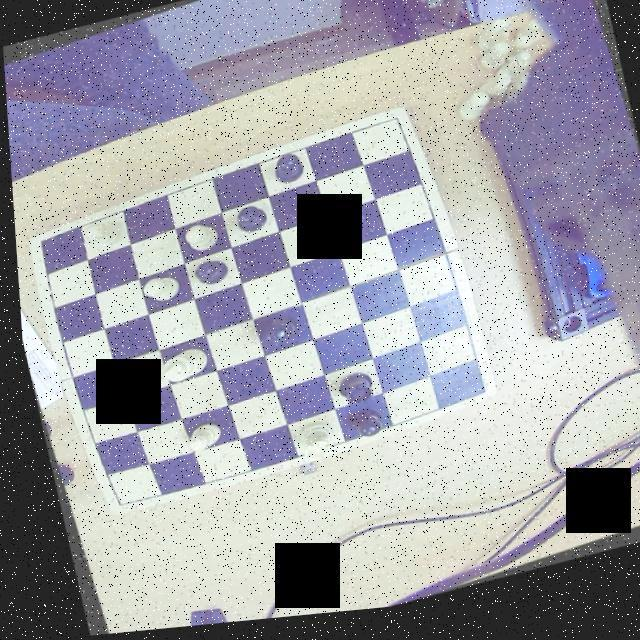chess-table-corners: (458, 385, 488, 413), (24, 231, 56, 254), (381, 116, 409, 142), (98, 492, 124, 516)
